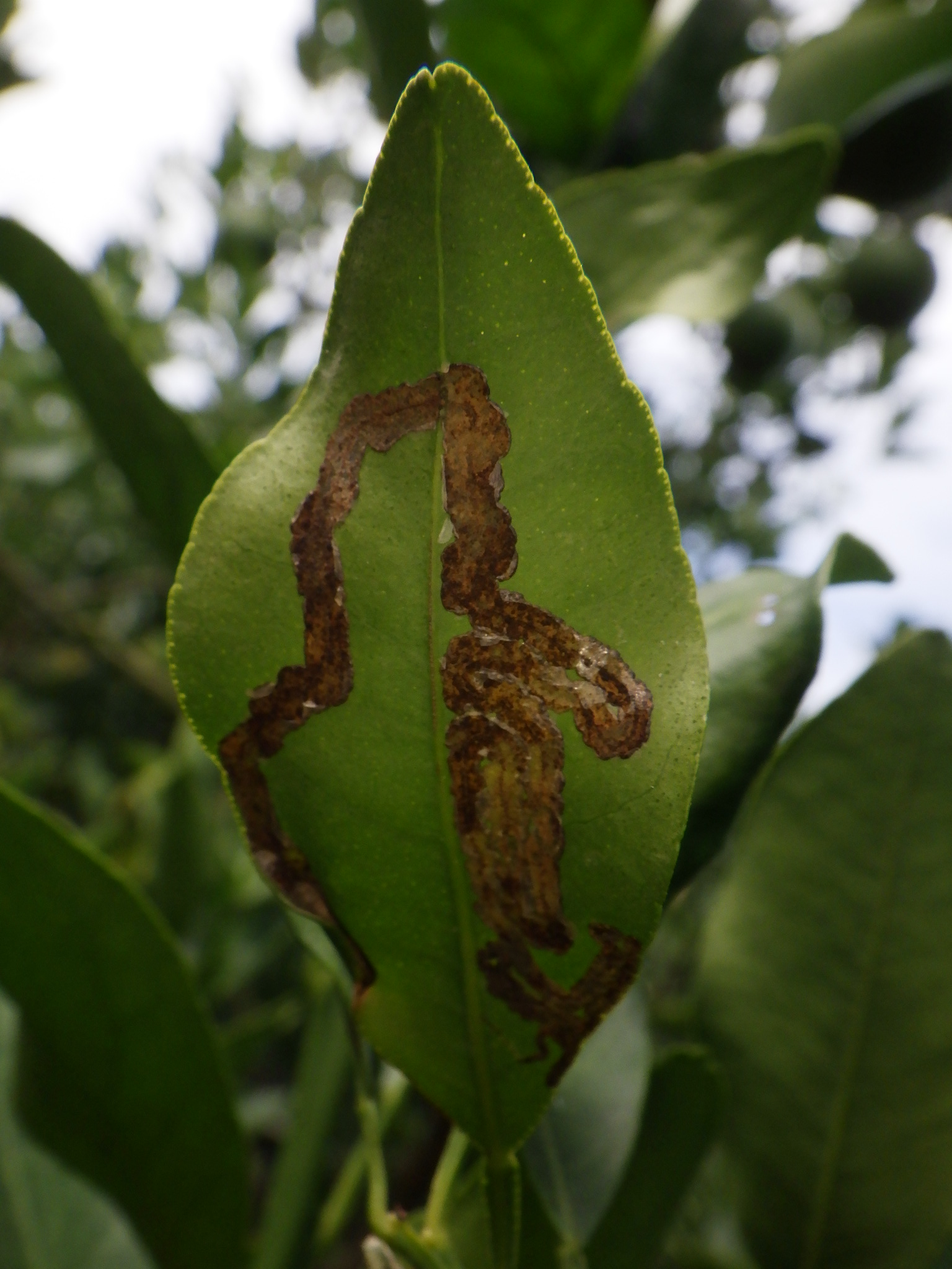Citrus_Leaf_Miner: (219, 364, 652, 1086)
